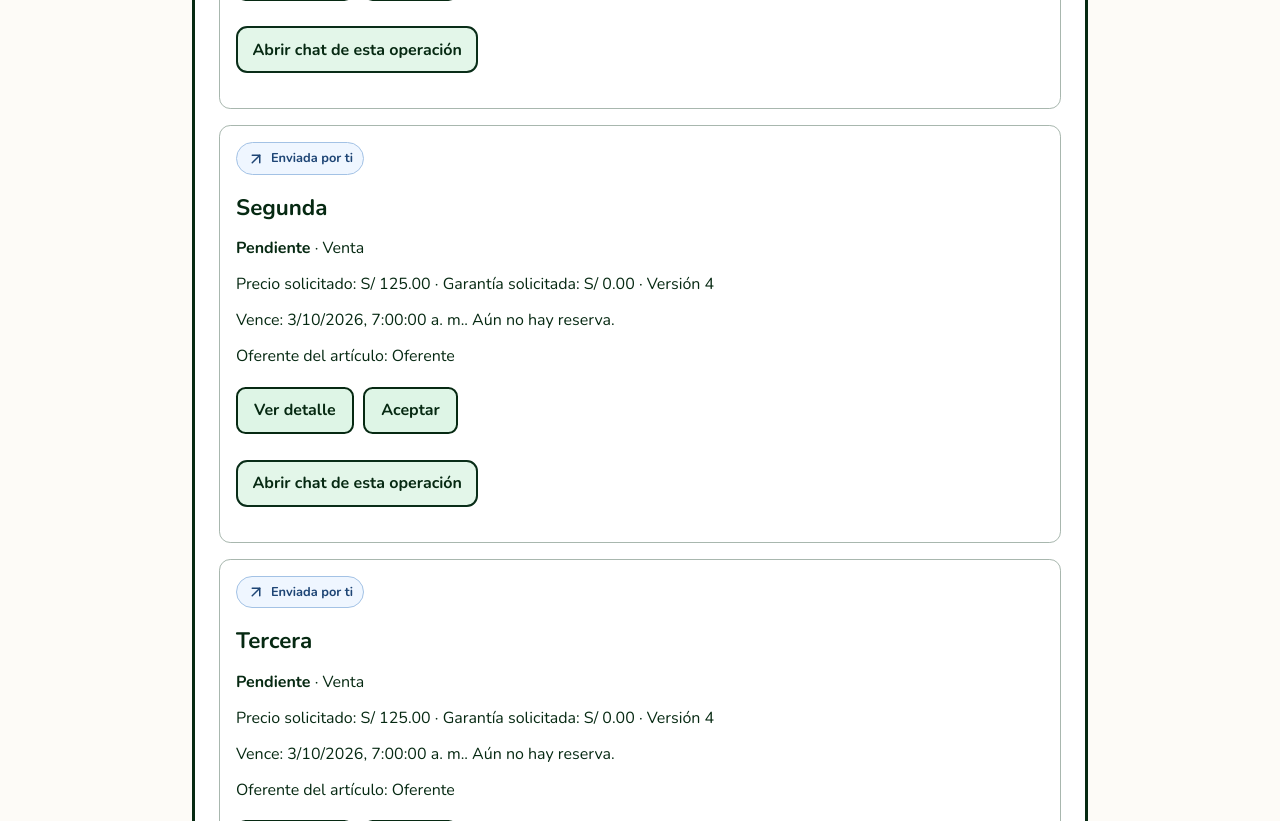
renders Aceptar confirmation beneath the selected request, not after the list
(page scrolled)
Click the button "Aceptar" below "Segunda" at (410, 410), box x1=363 y1=387 x2=458 y2=434
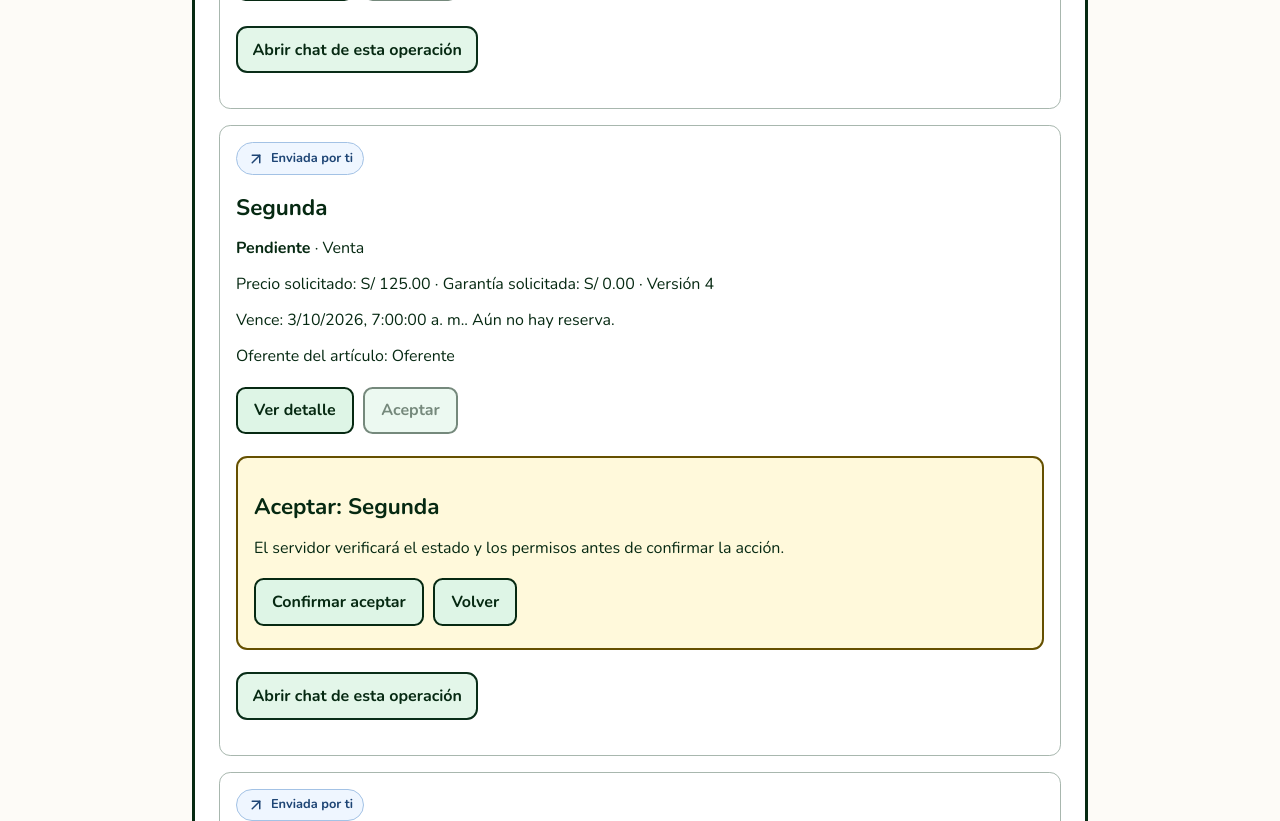
Click the button "Volver" at (475, 602), box x1=433 y1=578 x2=517 y2=626
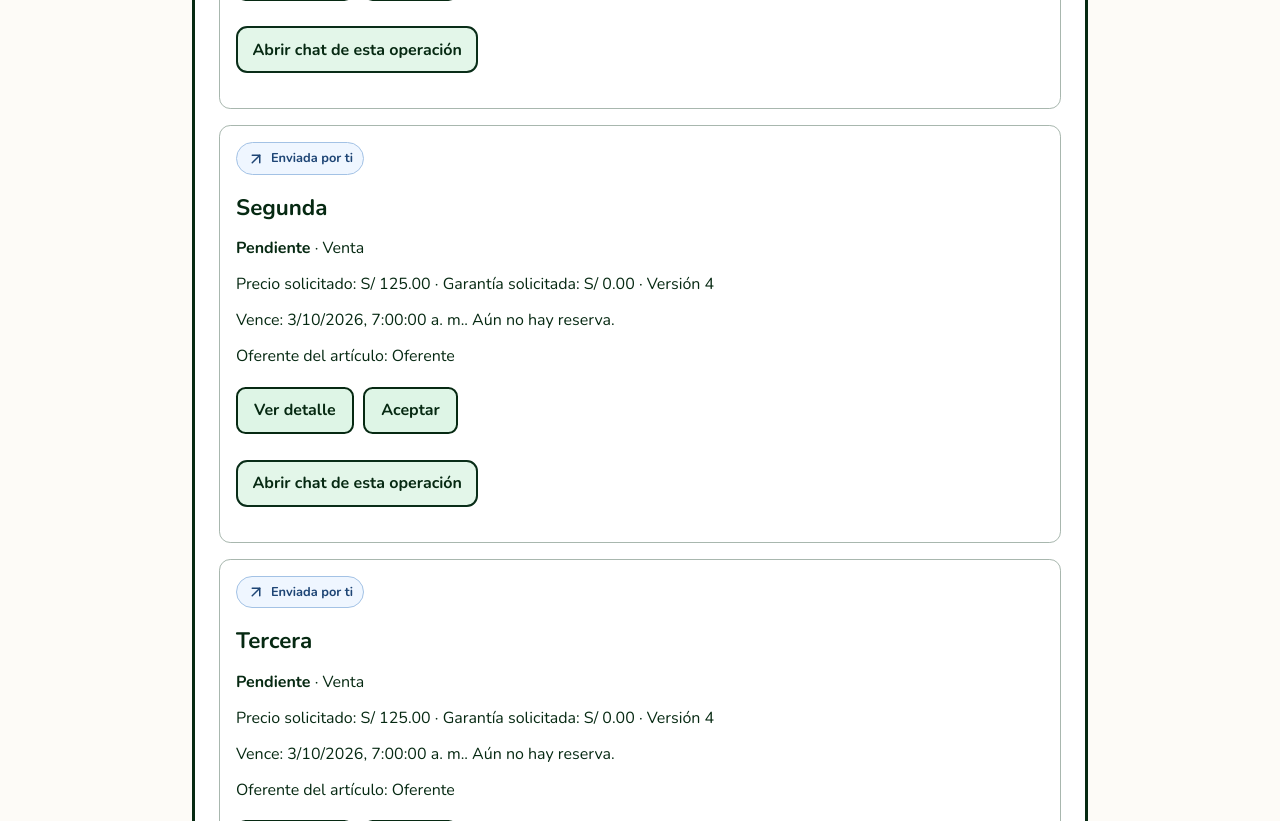
Now the dialog is gone
